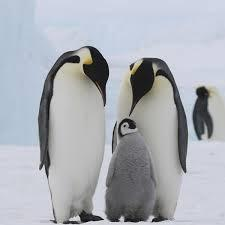emporer: (22, 40, 115, 223), (112, 48, 201, 217)
